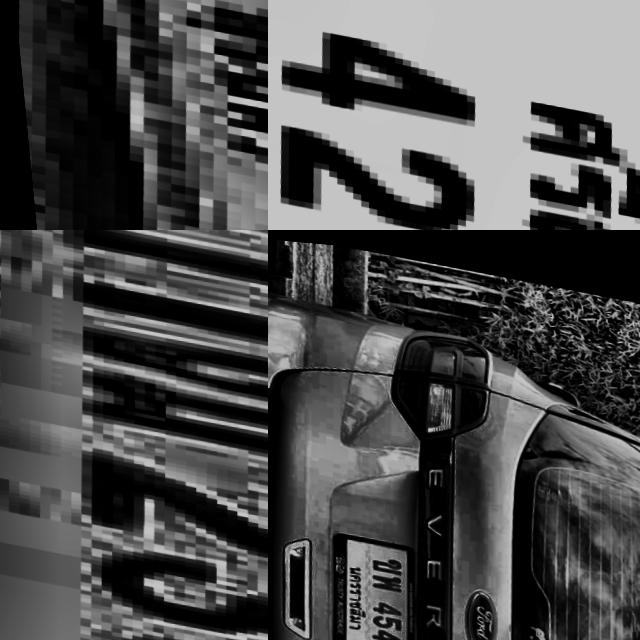license-plate: (0, 230, 268, 640), (268, 0, 640, 230), (0, 0, 268, 230), (309, 522, 421, 640)
